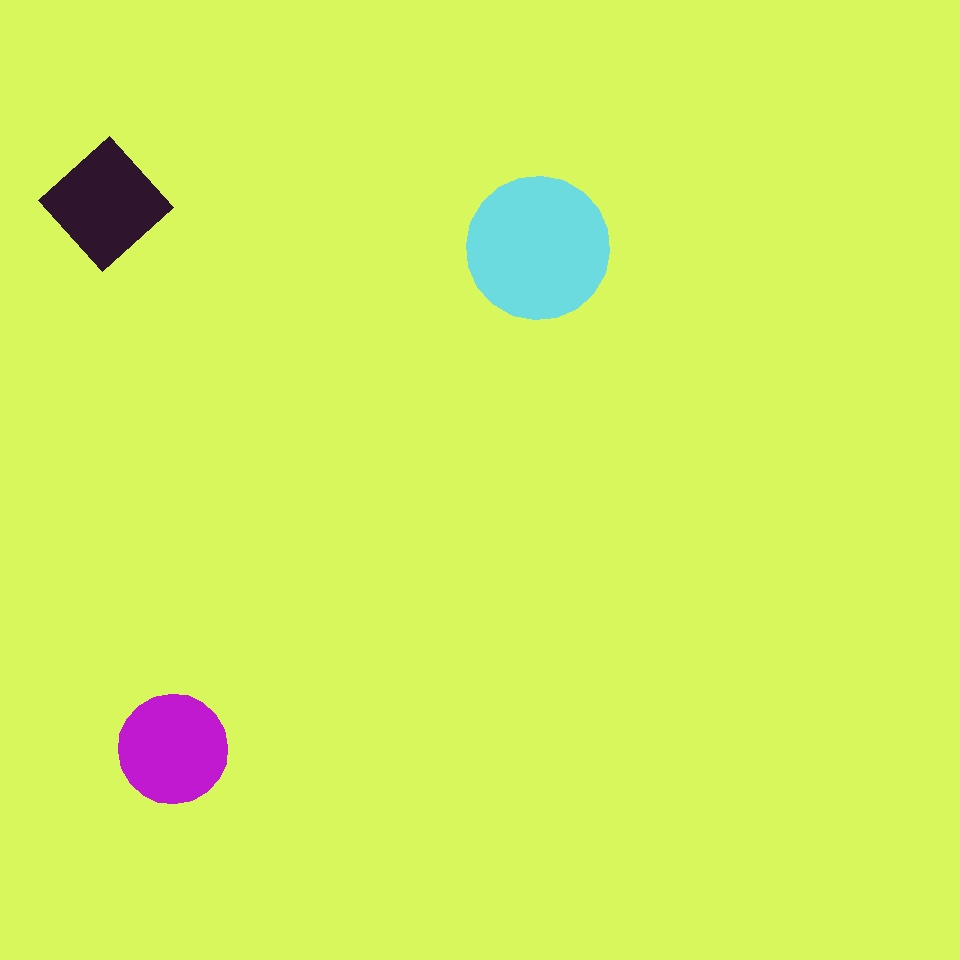circle: (606, 551, 907, 854), (297, 25, 575, 340), (224, 104, 483, 365), (276, 789, 419, 935)
square: (396, 295, 660, 558), (38, 136, 174, 272), (187, 669, 316, 798)
triangle: (496, 494, 821, 819), (222, 698, 458, 934), (70, 652, 291, 873), (466, 177, 610, 320), (713, 475, 838, 600), (418, 719, 535, 836), (118, 694, 228, 804)
